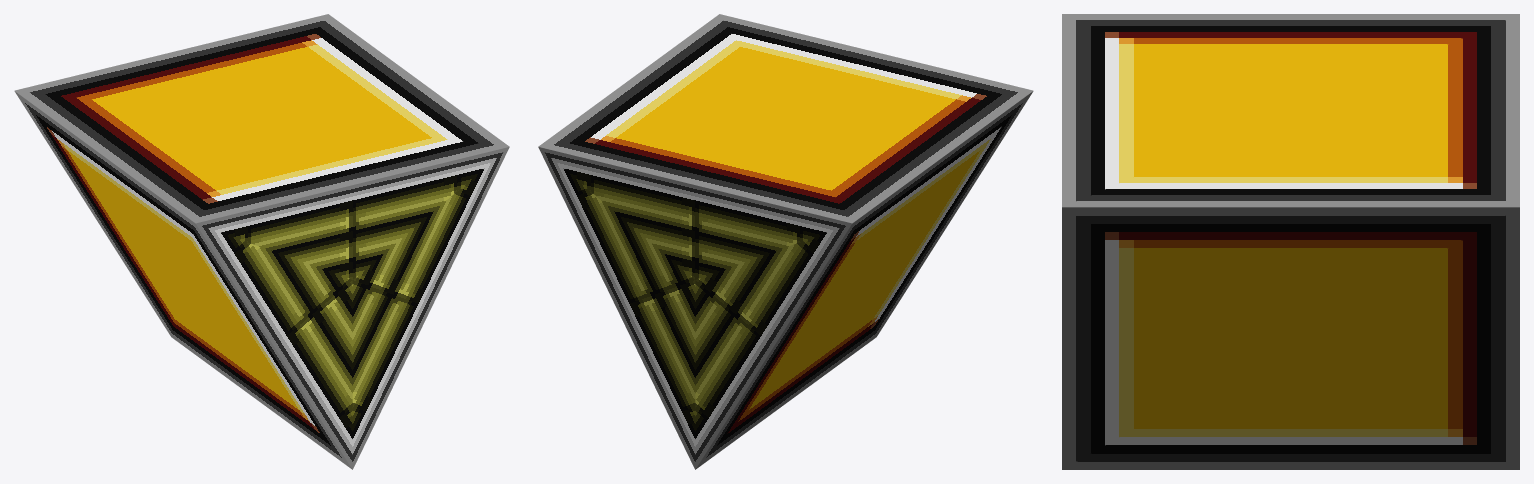
Rendered from ct_mecha_obj02.glb.
The picture shows the model from 3 angles, left to right: view 1: azimuth 30°, elevation 25°; view 2: azimuth 150°, elevation 25°; view 3: azimuth 270°, elevation 25°; orthographic projection. The views are drawn at different scales.
Parts seen in each view (by area): view 1: ct_mecha_obj02; view 2: ct_mecha_obj02; view 3: ct_mecha_obj02.
Boxes of the visible parts, x1=… form: ct_mecha_obj02: x1=14, y1=14, x2=509, y2=469; ct_mecha_obj02: x1=538, y1=14, x2=1033, y2=469; ct_mecha_obj02: x1=1062, y1=14, x2=1519, y2=469.
Size of the model in its own units: 48.75 by 42.22 by 48.75.
2 materials, 2 textured.
